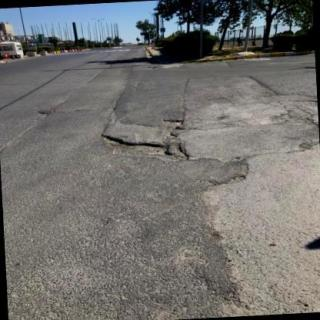pothole: (102, 136, 188, 161)
